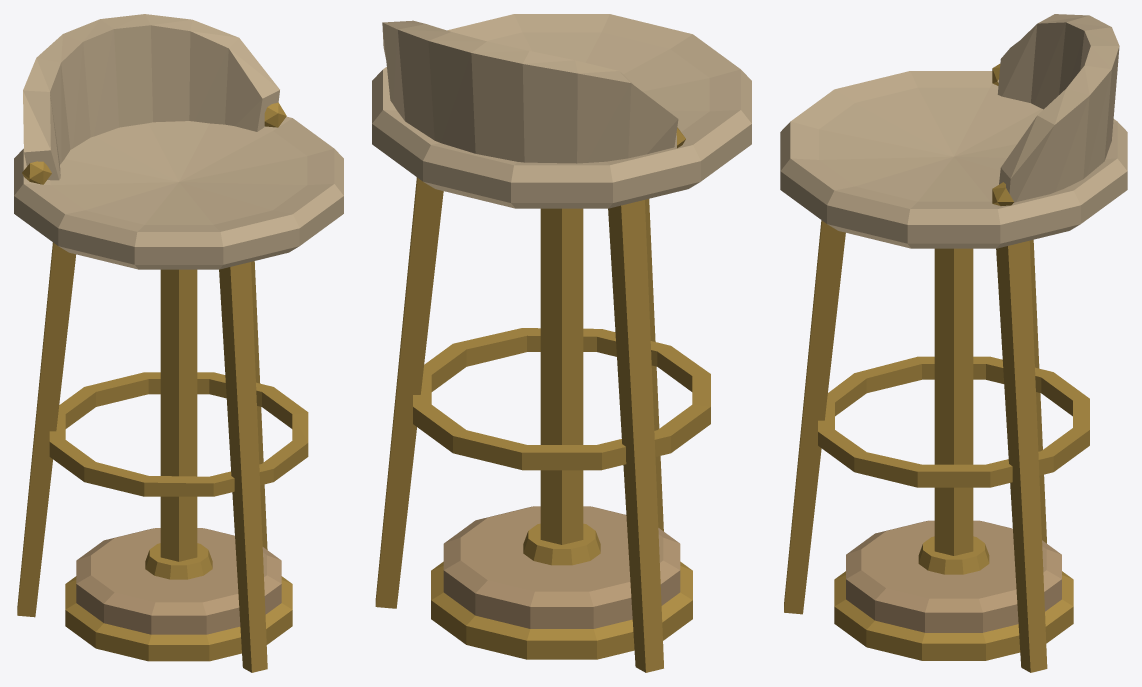
Rendered from bar-stool-0de3c8.glb.
The picture shows the model from 3 angles, left to right: view 1: azimuth 30°, elevation 25°; view 2: azimuth 150°, elevation 25°; view 3: azimuth 270°, elevation 25°; orthographic projection. The views are drawn at different scales.
Visible parts, largest first — view 1: swivel, bar-stool; view 2: swivel, bar-stool; view 3: swivel, bar-stool.
Boxes of the visible parts, <box> form: swivel: <box>14,14,343,561</box>; bar-stool: <box>17,242,308,672</box>; swivel: <box>372,14,751,544</box>; bar-stool: <box>375,177,710,672</box>; swivel: <box>780,14,1127,555</box>; bar-stool: <box>784,220,1089,672</box>.
Size of the model in its own units: 0.4347 by 0.7801 by 0.4347.
